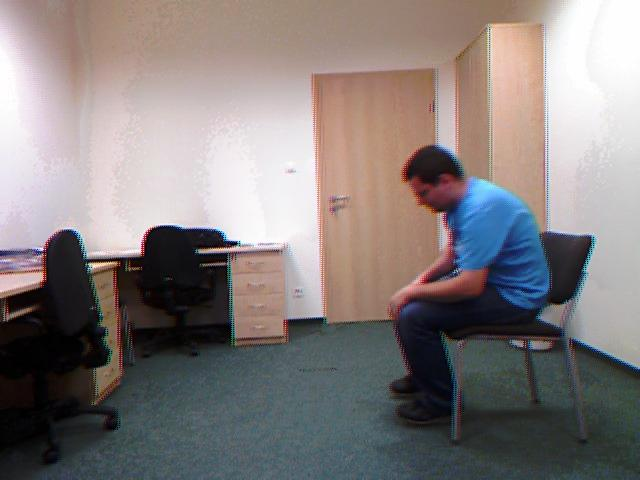sitting: (389, 145, 549, 424)
